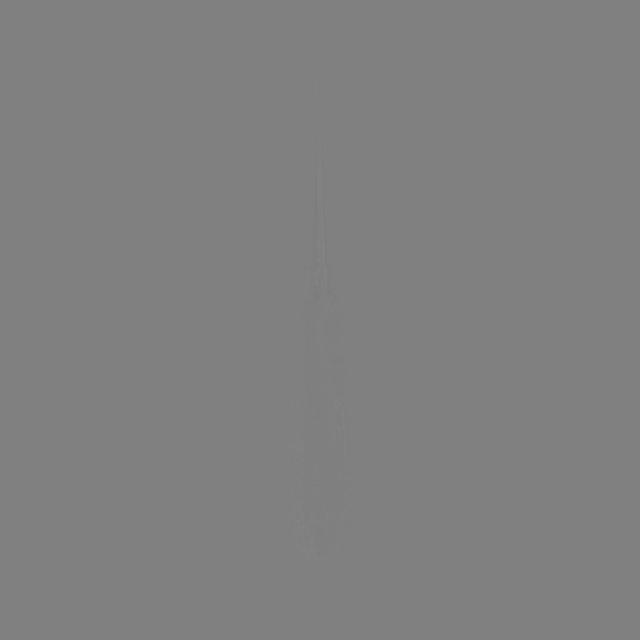botador: (285, 113, 352, 576)
